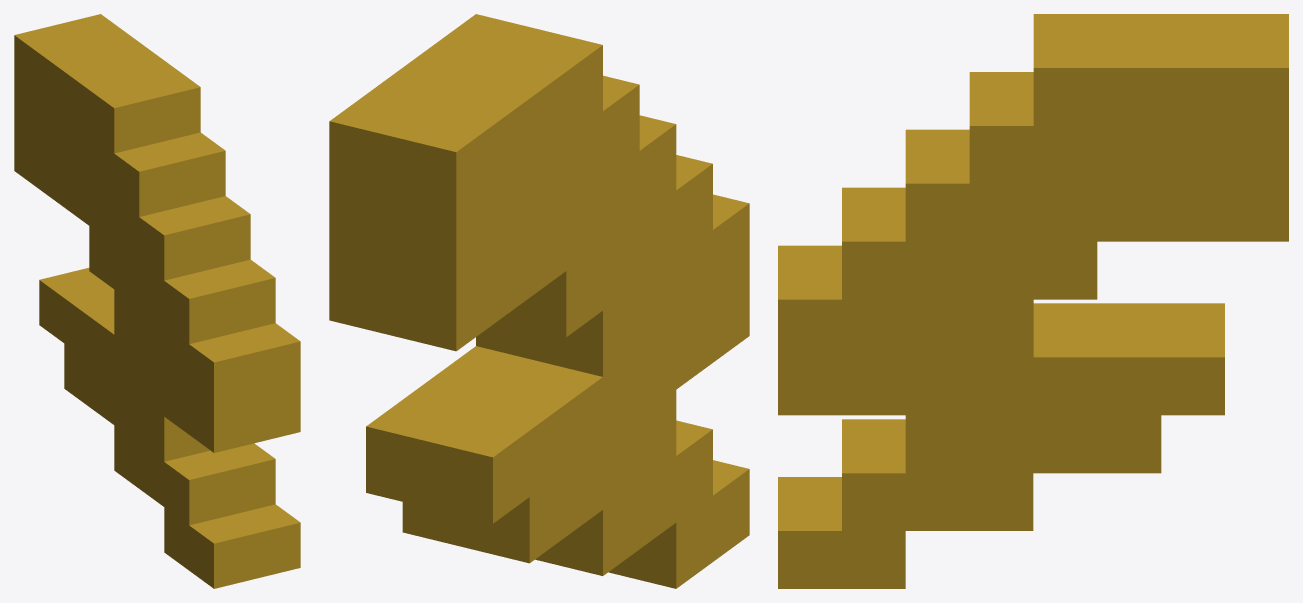
File: BuffSpeed_1.glb
3 renders of one model, left to right at view 1: azimuth 30°, elevation 25°; view 2: azimuth 150°, elevation 25°; view 3: azimuth 270°, elevation 25°, orthographic. The views are drawn at different scales.
Visible parts, largest first — view 1: Speed.1; view 2: Speed.1; view 3: Speed.1.
Boxes of the visible parts, x1=… form: Speed.1: x1=14, y1=14, x2=300, y2=588; Speed.1: x1=329, y1=14, x2=749, y2=588; Speed.1: x1=778, y1=14, x2=1288, y2=588.
Bounding box in the file's own units: 0.19 × 0.855 × 0.76.
Materials: 1 (1 with a texture image).
